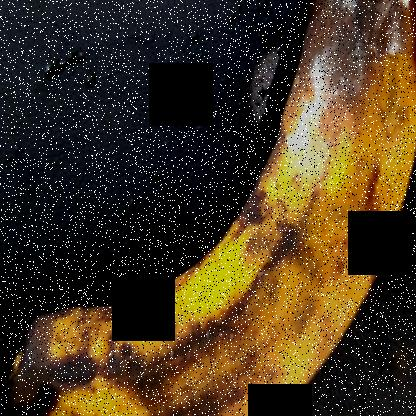overripe: (3, 4, 413, 415)
